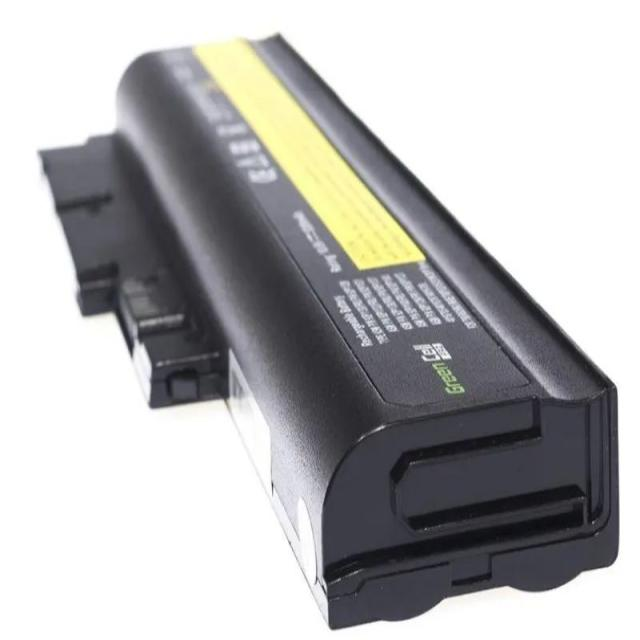electronic: (5, 8, 640, 640)
